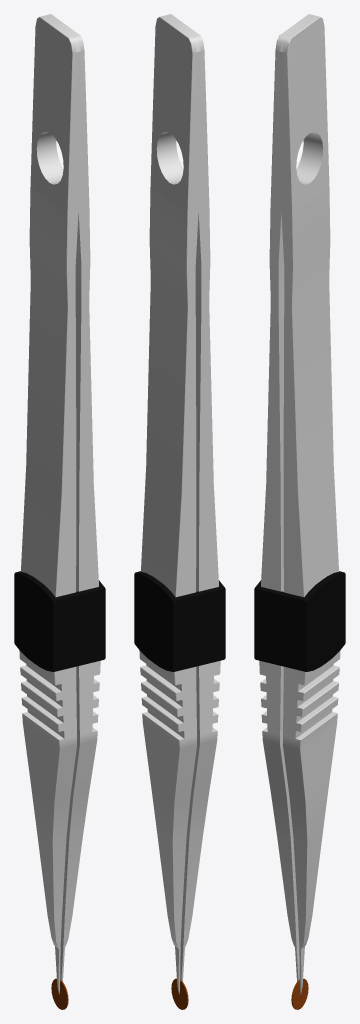
Rendered from CP3TweezerMesh.obj.
The picture shows the model from 3 angles, left to right: view 1: azimuth 30°, elevation 25°; view 2: azimuth 210°, elevation 25°; view 3: azimuth 330°, elevation 25°; orthographic projection.
Parts seen in each view (by area): view 1: Temp13:Tweezers7; view 2: Temp13:Tweezers7; view 3: Temp13:Tweezers7.
Part boxes in pixels (x1=…): Temp13:Tweezers7: x1=14, y1=14, x2=105, y2=1009; Temp13:Tweezers7: x1=134, y1=14, x2=225, y2=1009; Temp13:Tweezers7: x1=254, y1=14, x2=345, y2=1009.
Size of the model in its own units: 0.8418 by 14.82 by 1.06.
Materials: 1 (1 with a texture image).
